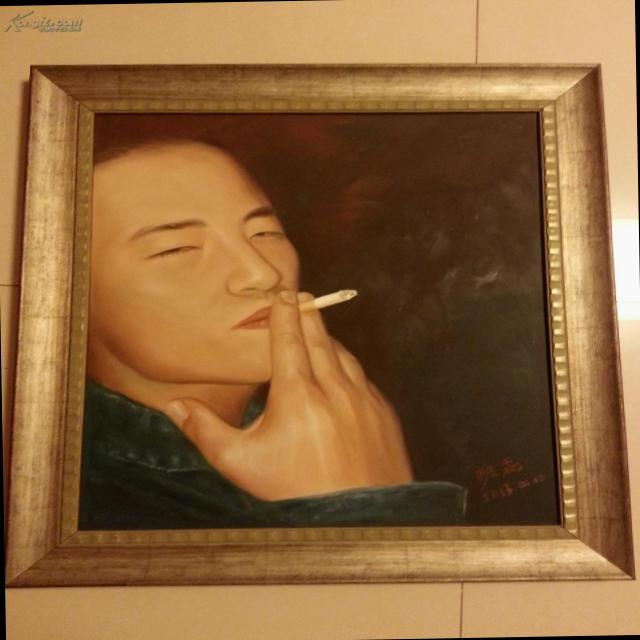cigarette: (304, 279, 363, 313)
